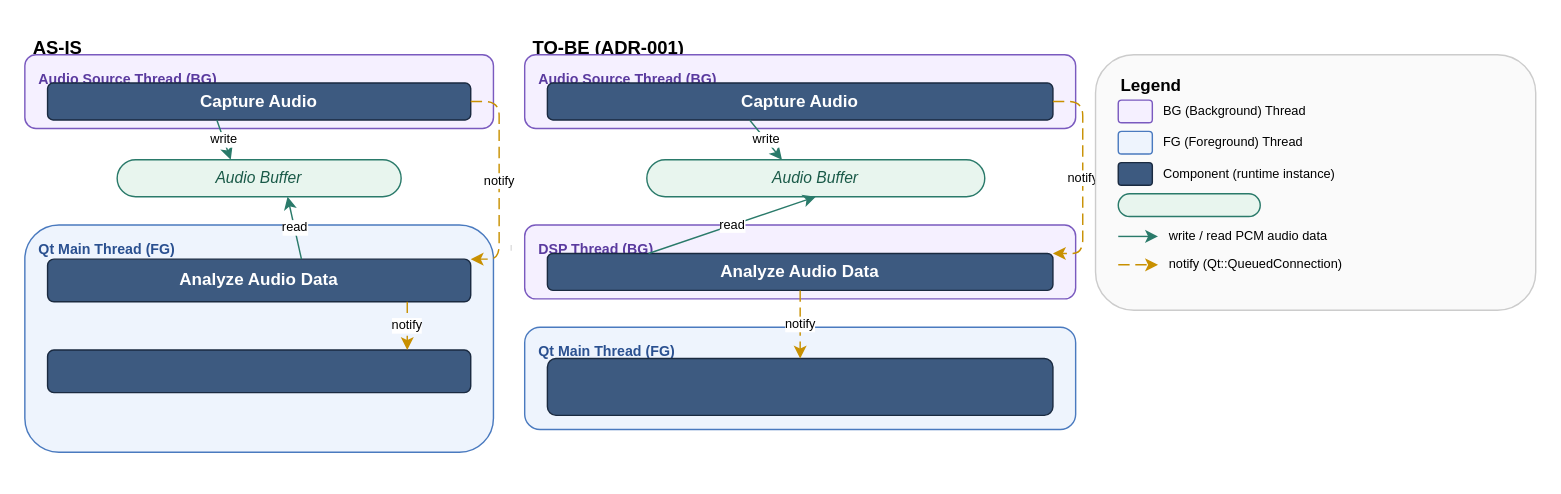
Image size: 1561x494. Some labels were removed from this diagram. Each missing label, with the centre of its shape:
Render Data: the point at 258,371
Render Data draw only when visible [ADR-002]: the point at 799,386
Shared Ring Buffer: the point at 1188,204
